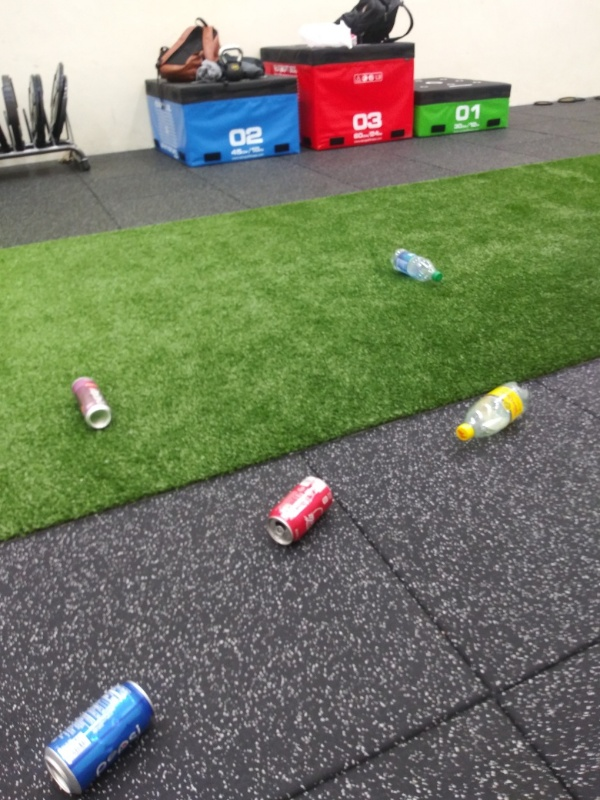bottle: (455, 380, 536, 451), (386, 244, 443, 290)
can: (37, 676, 157, 799), (260, 473, 337, 548), (66, 373, 113, 432)
